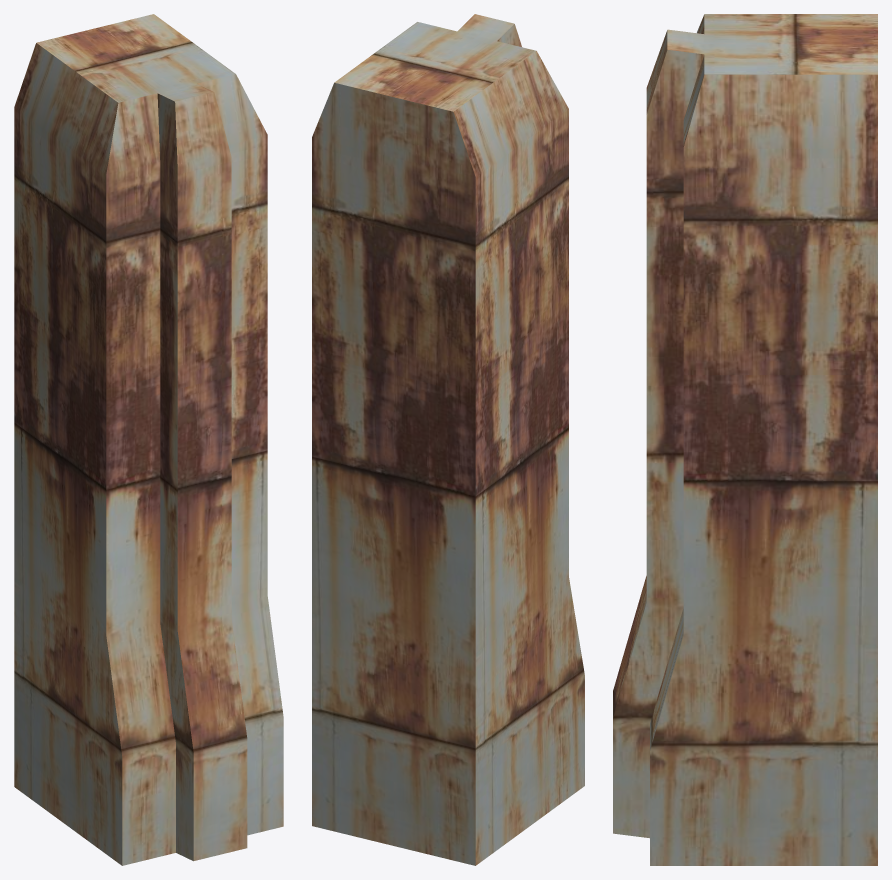
Rendered from Pillar B.fbx.
3 views of the same model, side by side, from view 1: azimuth 30°, elevation 25°; view 2: azimuth 150°, elevation 25°; view 3: azimuth 270°, elevation 25° (orthographic). The views are drawn at different scales.
Parts seen in each view (by area): view 1: Cube.062; view 2: Cube.062; view 3: Cube.062.
Part boxes in pixels (x1,y1,x2,y2): Cube.062: [14, 14, 283, 865]; Cube.062: [312, 14, 584, 865]; Cube.062: [613, 14, 877, 865].
Size of the model in its own units: 355 by 1561 by 477.
